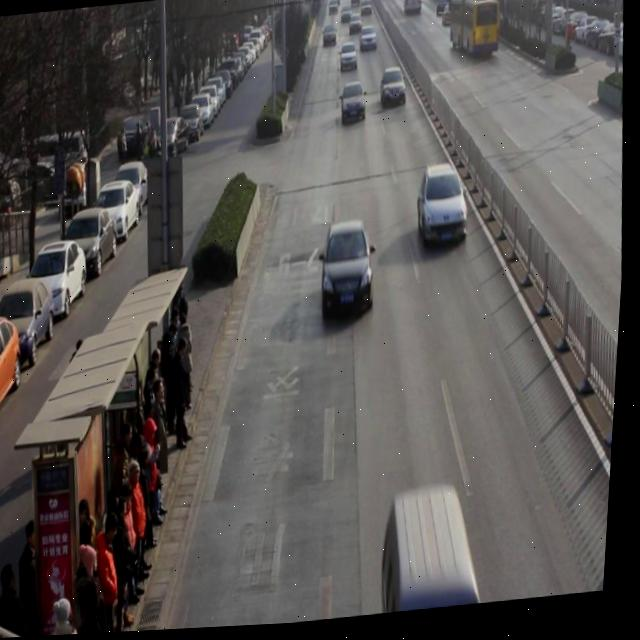car: (322, 222, 383, 325), (419, 166, 476, 255), (380, 70, 410, 115), (341, 85, 370, 130), (340, 45, 361, 78), (360, 29, 380, 58)
van: (446, 0, 502, 66)
